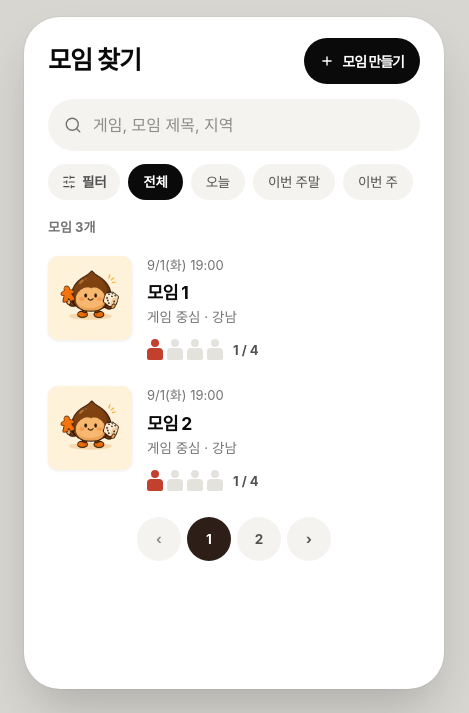
Test case: 모임 찾기 예외 화면 › 번호형 페이지네이션으로 다음 페이지를 조회한다
Check: the text "모임 1" is shown, box [147,282,188,303]
Check: the button named "이전 페이지" is disabled, box [137,517,181,561]
Click the button named "다음 페이지": (309, 539) [287,517,331,561]
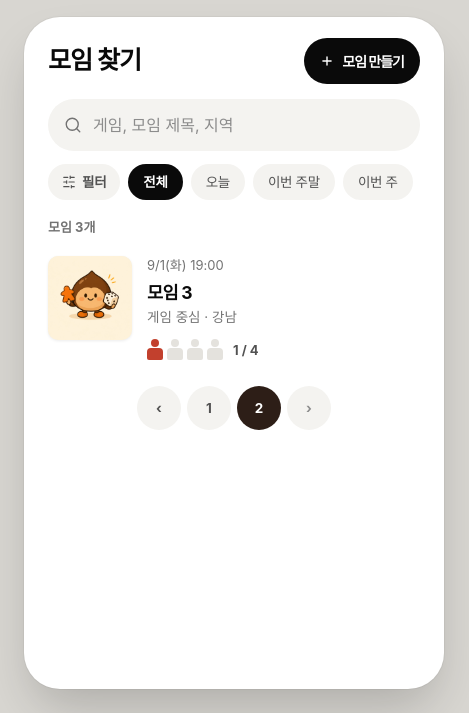
Check: the link "모임 1" is gone
Check: the text "모임 3" is shown, box [147,282,192,303]
